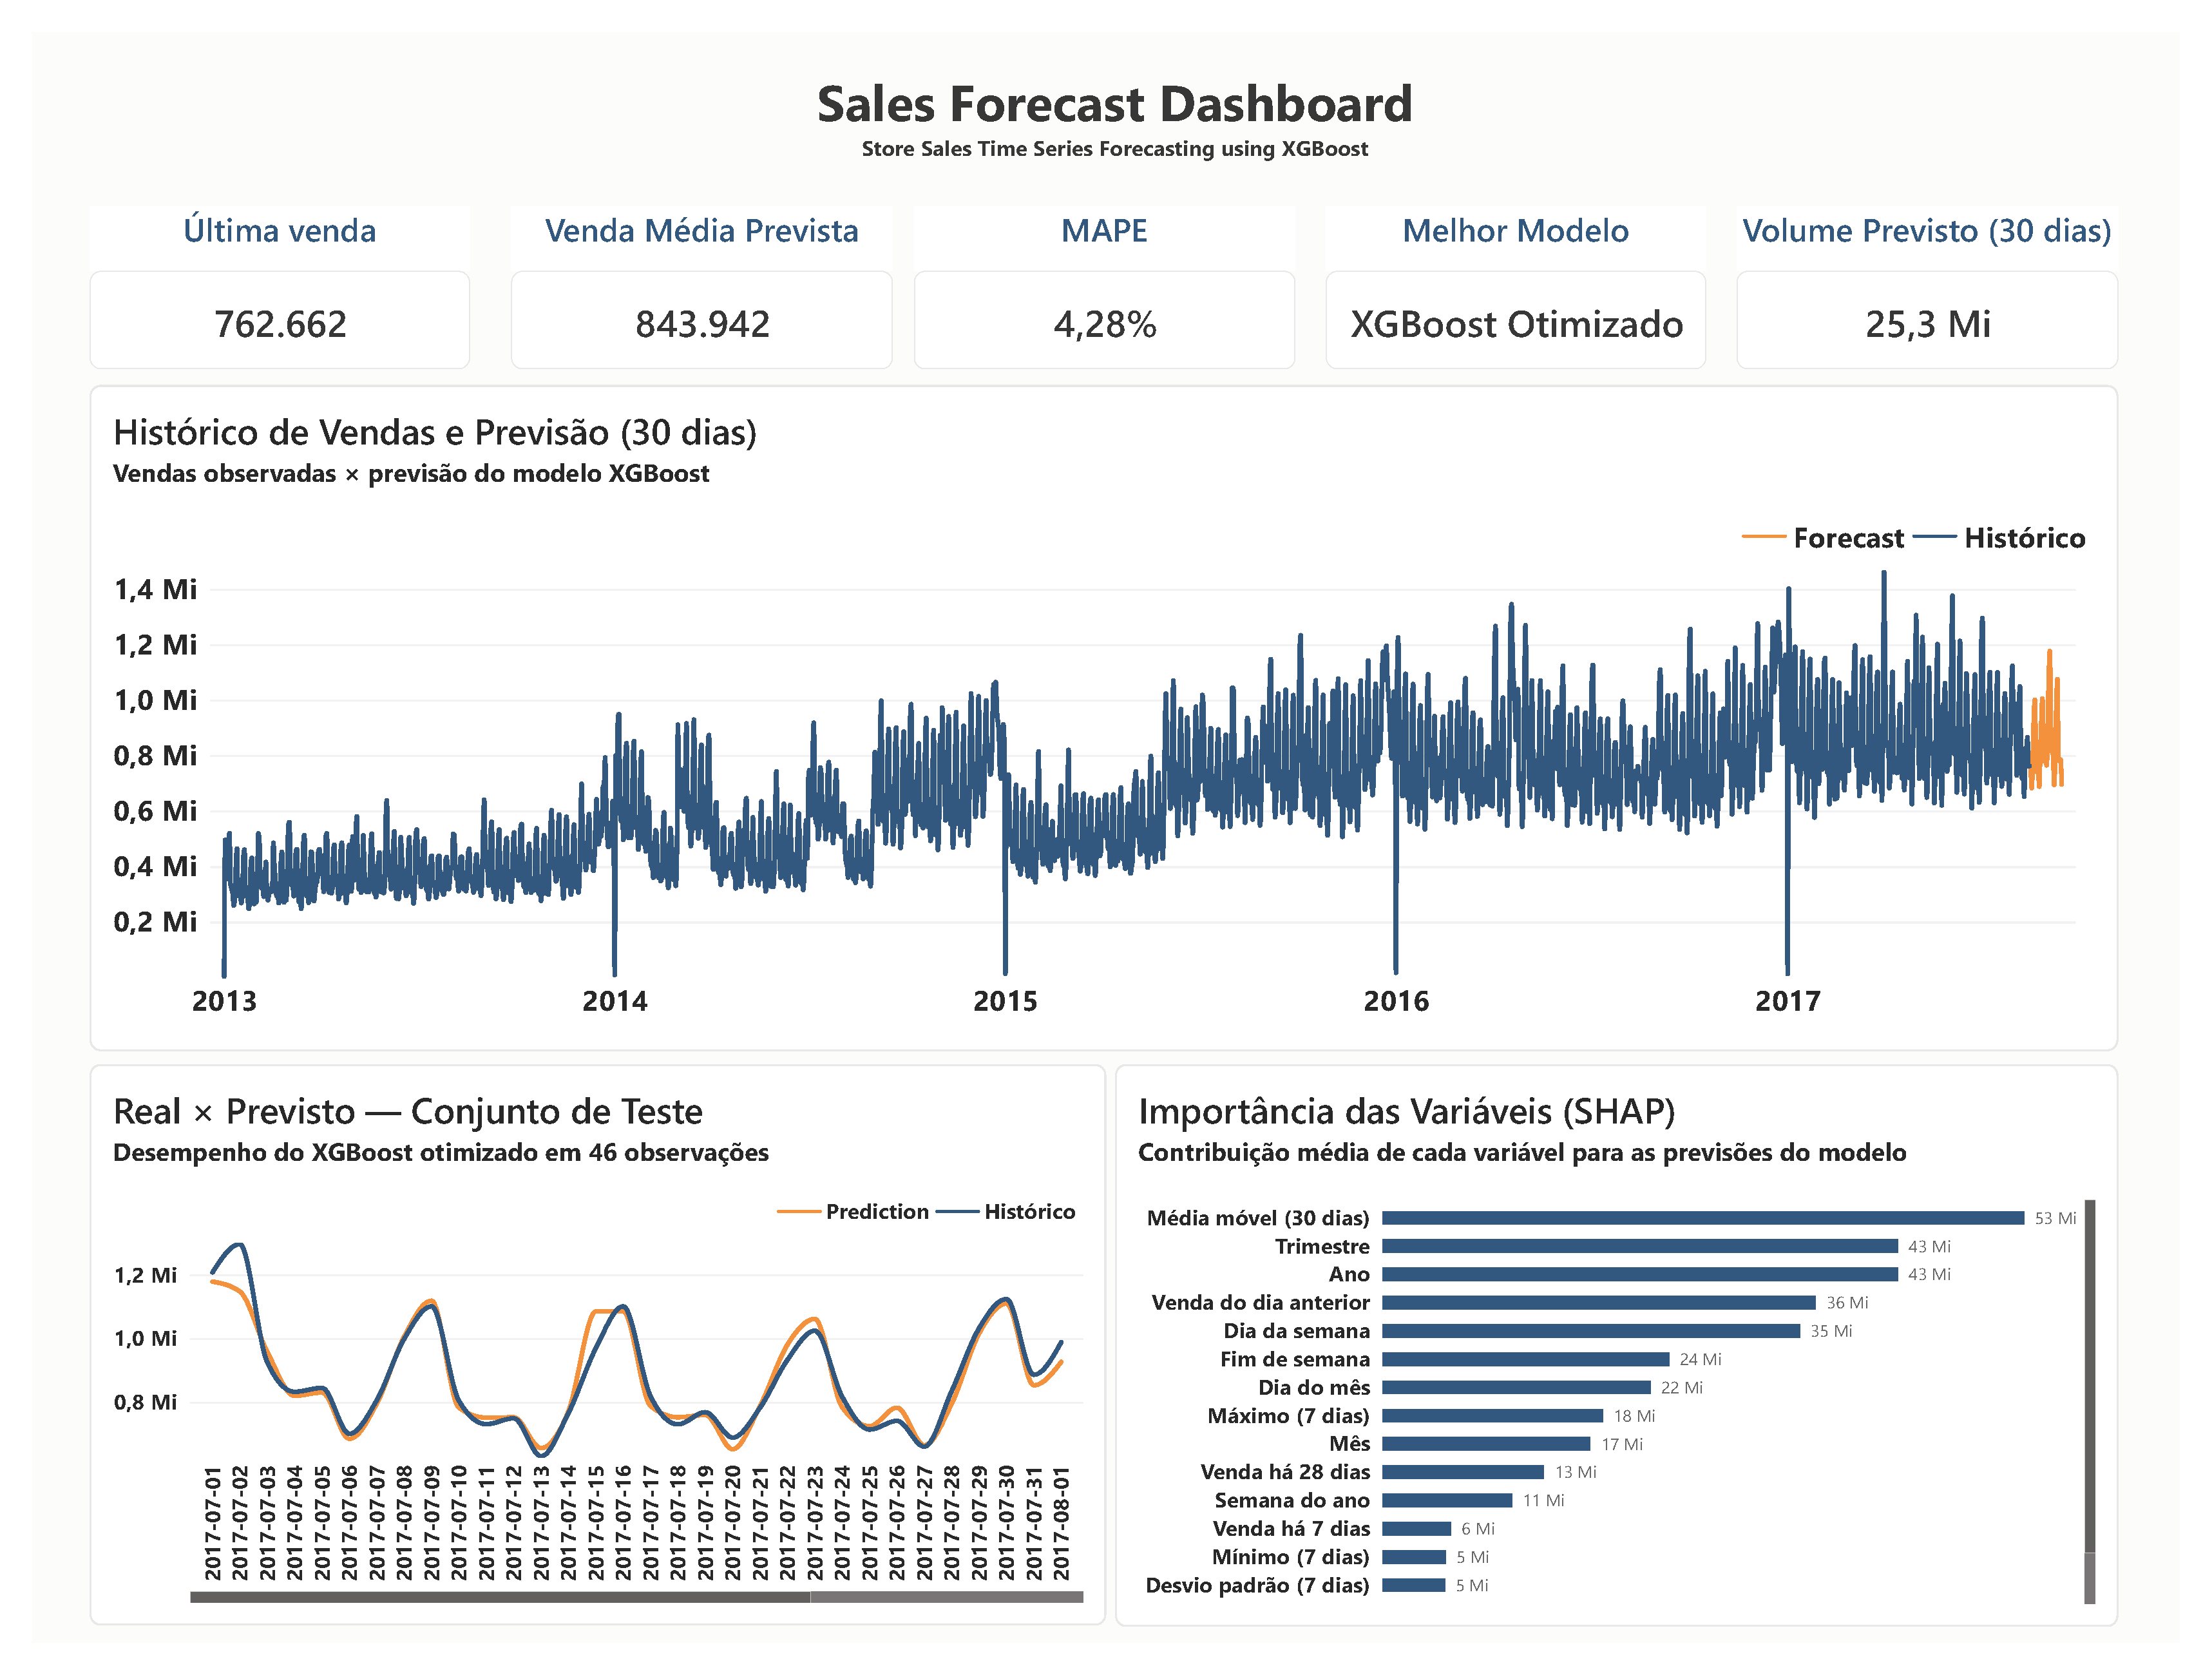

The dashboard page shown, as its layout file describes it:
{"tool":"powerbi","page":{"name":"Página 1","canvas":[1600,1200],"ordinal":0},"visuals":[{"type":"textbox","box":[42.2,25.6,1530,104.4],"z":0},{"type":"cardVisual","title":"Última venda ","fields":{"Data":["historico_vendas.Última Venda"]},"box":[42.9,130,282.9,121.4],"z":1000},{"type":"cardVisual","title":"Venda Média Prevista","fields":{"Data":["forecast_30d.Venda Média Prevista"]},"box":[357.1,130,284.3,121.4],"z":2000},{"type":"cardVisual","title":"MAPE","fields":{"Data":["comparacao_modelos.MAPE Melhor Modelo Texto1"]},"box":[657.1,130,284.3,121.4],"z":3000},{"type":"cardVisual","title":"Melhor Modelo","fields":{"Data":["comparacao_modelos.Melhor Modelo"]},"box":[964.3,130,282.9,121.4],"z":4000},{"type":"cardVisual","title":"Volume Previsto (30 dias)","fields":{"Data":["Sum(forecast_30d.sales_forecast)"]},"box":[1270,130,284.3,121.4],"z":5000},{"type":"lineChart","title":"Histórico de Vendas e Previsão (30 dias)","fields":{"Category":["SerieTemporal.Date.Variation.Hierarquia de datas.Ano"],"Series":["SerieTemporal.Tipo"],"Y":["Sum(SerieTemporal.Valor)"]},"box":[42.9,262.9,1511.4,495.7],"z":6000},{"type":"lineChart","title":"Real × Previsto — Conjunto de Teste","fields":{"Category":["prediction_test.date.Variation.Hierarquia de datas.Ano"],"Y":["Sum(prediction_test.prediction)","Sum(prediction_test.real)"]},"box":[42.9,768.6,757.1,418.6],"z":7000},{"type":"clusteredBarChart","title":"Importância das Variáveis (SHAP)","fields":{"Category":["importance_shap.Feature"],"Y":["Sum(importance_shap.Importance)"]},"box":[807,769,747,419],"z":8000},{"type":"textbox","box":[1201.4,978.6,300,221.4],"z":9000}]}

Visuals, with their boxes on the page's 1600x1200 design canvas (x1, y1, x2, y2). These are canvas units, not pixel positions in the 2212x1675 screenshot, which may show the page scaled, cropped or inside an application window:
textbox: <box>42,26,1572,130</box>
"Última venda " cardVisual: <box>43,130,326,251</box>
"Venda Média Prevista" cardVisual: <box>357,130,641,251</box>
"MAPE" cardVisual: <box>657,130,941,251</box>
"Melhor Modelo" cardVisual: <box>964,130,1247,251</box>
"Volume Previsto (30 dias)" cardVisual: <box>1270,130,1554,251</box>
"Histórico de Vendas e Previsão (30 dias)" lineChart: <box>43,263,1554,759</box>
"Real × Previsto — Conjunto de Teste" lineChart: <box>43,769,800,1187</box>
"Importância das Variáveis (SHAP)" clusteredBarChart: <box>807,769,1554,1188</box>
textbox: <box>1201,979,1501,1200</box>
